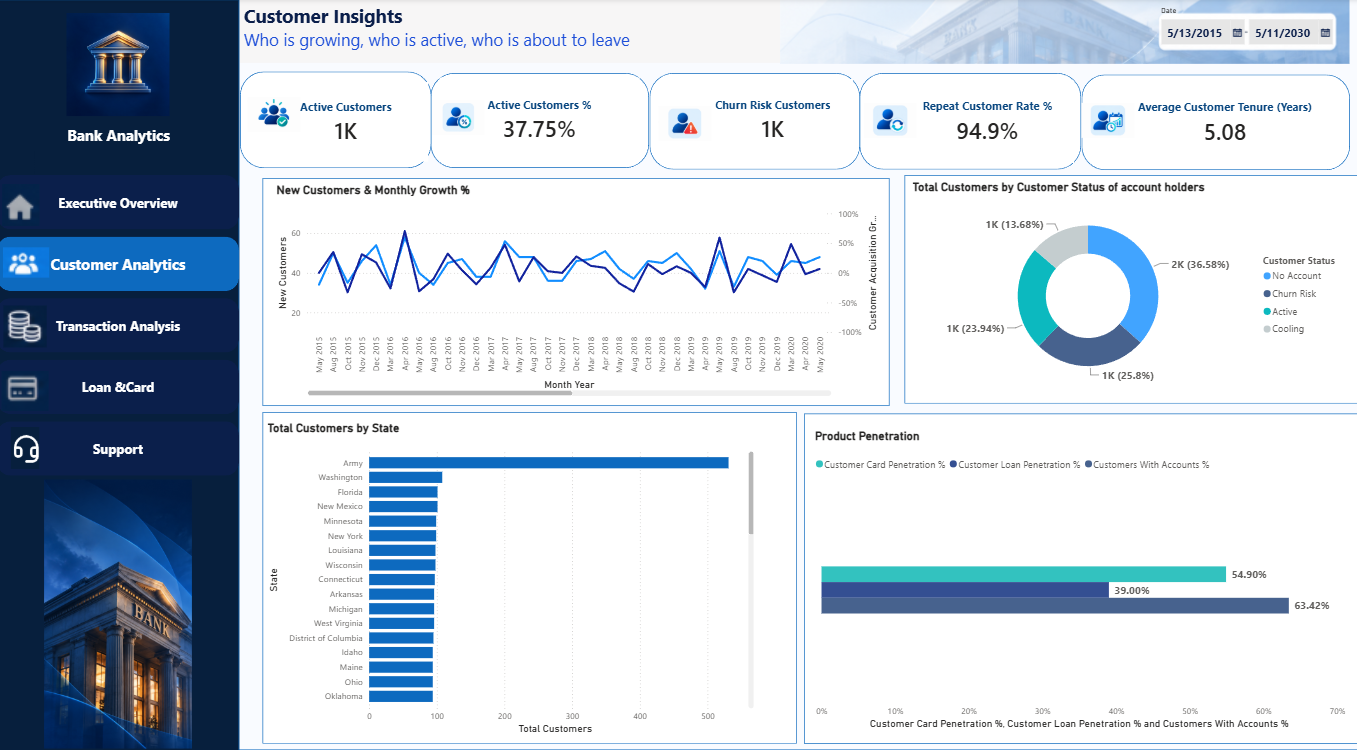

Layout of this report page (visuals, bound fields, positions):
{"tool":"powerbi","page":{"name":"Customer Analytics","canvas":[1950,1078],"ordinal":1},"visuals":[{"type":"shape","box":[244.5,0,1704.8,1075.4],"z":0},{"type":"textbox","box":[346.4,2.3,1197.6,90.6],"z":1000},{"type":"image","box":[0,688.2,346.4,384.9],"z":1000,"group":"g10"},{"type":"group","id":"g1","title":"Group 1","box":[1297.2,253.6,648.7,326.9],"z":4000},{"type":"group","id":"g2","title":"Group 2","box":[380.3,258.1,896.5,326],"z":5000},{"type":"group","id":"g3","title":"Group 5","box":[380.3,590.9,765.2,475.4],"z":6000},{"type":"group","id":"g4","title":"Group 6","box":[1154.6,593.2,792.4,470.9],"z":7000},{"type":"group","id":"g5","title":"Group 7","box":[1550.8,108.7,383.8,136.7],"z":8000},{"type":"group","id":"g6","title":"Group 8","box":[1233.9,106.4,317,138.1],"z":9000},{"type":"shape","box":[346.4,104.1,273.7,138.2],"z":10000,"group":"g9"},{"type":"group","id":"g7","title":"Group 9","box":[932.7,106.4,301.1,138.1],"z":10000},{"type":"group","id":"g8","title":"Group 10","box":[620.3,106.4,312.4,135.8],"z":11000},{"type":"shape","box":[620.3,106.4,312.4,135.8],"z":11000,"group":"g8"},{"type":"group","id":"g9","title":"Group 11","box":[346.4,104.1,273.7,138.2],"z":12000},{"type":"shape","box":[932.7,106.4,301.1,138.1],"z":12000,"group":"g7"},{"type":"shape","box":[1233.9,106.4,317,138.1],"z":13000,"group":"g6"},{"type":"actionButton","box":[0,199.4,239.1,49.3],"z":13000},{"type":"shape","box":[1550.8,108.7,383.8,136.7],"z":14000,"group":"g5"},{"type":"shape","box":[1154.6,593.2,792.3,472.3],"z":16000,"group":"g4"},{"type":"shape","box":[1297.2,253.6,648.7,326.9],"z":17000,"group":"g1"},{"type":"shape","box":[380.3,590.9,764.1,474.2],"z":18000,"group":"g3"},{"type":"shape","box":[380.3,258.1,896.5,326],"z":19000,"group":"g2"},{"type":"cardVisual","fields":{"Data":["calculated_table.Active Customers"]},"box":[379.9,118.8,234.9,114.2],"z":28000,"group":"g9"},{"type":"shape","box":[0,2.3,346.4,1075.4],"z":29000},{"type":"cardVisual","fields":{"Data":["calculated_table.active Customers %"]},"box":[633.5,112.4,286,120.9],"z":29000,"group":"g8"},{"type":"cardVisual","fields":{"Data":["calculated_table.Repeat Customer Rate %"]},"box":[1294.1,118.1,246.8,117.7],"z":30000,"group":"g6"},{"type":"textbox","box":[54.3,176.6,240.2,83.6],"z":30000},{"type":"cardVisual","fields":{"Data":["calculated_table.Churn Risk Customers"]},"box":[995.4,114.1,228.7,117.7],"z":31000,"group":"g7"},{"type":"cardVisual","fields":{"Data":["calculated_table.Average Customer Tenure (Years)"]},"box":[1598.8,116.2,317,120],"z":32000,"group":"g5"},{"type":"group","id":"g10","title":"Group 12","box":[0,688.2,346.4,384.9],"z":36000},{"type":"image","box":[0,20.4,346.4,147.2],"z":37000},{"type":"lineChart","title":"New Customers & Monthly Growth %","fields":{"Category":["DimDate.Month Year"],"Y":["calculated_table.New Customers"],"Y2":["calculated_table.Customer Acquisition Growth %"]},"box":[394.4,264.7,868.7,310.2],"z":37000,"group":"g2"},{"type":"pageNavigator","box":[0,253.6,346.4,434.7],"z":37001},{"type":"image","box":[6.4,613.4,67.5,60],"z":37002},{"type":"image","box":[6.8,532,67.5,60],"z":37003},{"type":"image","box":[6.8,439.2,67.5,60],"z":37004},{"type":"image","box":[8.2,343.5,66,70],"z":37005},{"type":"image","box":[0,264.9,67.5,60],"z":37006},{"type":"image","box":[1113.1,2.1,827.8,92.2],"z":37007},{"type":"slicer","fields":{"Values":["DimDate.Date"]},"box":[1651.3,6.4,276.7,83.6],"z":37008},{"type":"image","box":[358.1,109.4,75.1,113.7],"z":37009},{"type":"image","box":[620.9,114,75.1,113.7],"z":37010},{"type":"image","box":[945.8,122.2,75.1,113.7],"z":37011},{"type":"image","box":[1239.6,118,75.1,113.7],"z":37012},{"type":"image","box":[1550.6,118,75.1,113.7],"z":37013},{"type":"donutChart","title":"Total Customers by Customer Status of account holders","fields":{"Category":["customers.Customer Status"],"Y":["calculated_table.Total Customers"]},"box":[1304.7,260.5,630.2,302.3],"z":37014},{"type":"barChart","fields":{"Category":["customers.State"],"Y":["calculated_table.Total Customers"]},"box":[382.4,604,705.2,452.7],"z":38001,"group":"g3"},{"type":"clusteredBarChart","title":"Product Penetration","fields":{"Y":["calculated_table.Customer Card Penetration %","calculated_table.Customer Loan Penetration %","calculated_table.Customers With Accounts %"]},"box":[1166.3,615.6,768.5,434.7],"z":38002,"group":"g4"}]}

Visuals, with their boxes on the page's 1950x1078 design canvas (x1, y1, x2, y2). These are canvas units, not pixel positions in the 1357x750 screenshot, which may show the page scaled, cropped or inside an application window:
shape: l=244, t=0, r=1949, b=1075
textbox: l=346, t=2, r=1544, b=93
image: l=0, t=688, r=346, b=1073
"Group 1" group: l=1297, t=254, r=1946, b=580
"Group 2" group: l=380, t=258, r=1277, b=584
"Group 5" group: l=380, t=591, r=1146, b=1066
"Group 6" group: l=1155, t=593, r=1947, b=1064
"Group 7" group: l=1551, t=109, r=1935, b=245
"Group 8" group: l=1234, t=106, r=1551, b=244
shape: l=346, t=104, r=620, b=242
"Group 9" group: l=933, t=106, r=1234, b=244
"Group 10" group: l=620, t=106, r=933, b=242
shape: l=620, t=106, r=933, b=242
"Group 11" group: l=346, t=104, r=620, b=242
shape: l=933, t=106, r=1234, b=244
shape: l=1234, t=106, r=1551, b=244
actionButton: l=0, t=199, r=239, b=249
shape: l=1551, t=109, r=1935, b=245
shape: l=1155, t=593, r=1947, b=1066
shape: l=1297, t=254, r=1946, b=580
shape: l=380, t=591, r=1144, b=1065
shape: l=380, t=258, r=1277, b=584
cardVisual - calculated_table.Active Customers: l=380, t=119, r=615, b=233
shape: l=0, t=2, r=346, b=1078
cardVisual - calculated_table.active Customers %: l=634, t=112, r=920, b=233
cardVisual - calculated_table.Repeat Customer Rate %: l=1294, t=118, r=1541, b=236
textbox: l=54, t=177, r=294, b=260
cardVisual - calculated_table.Churn Risk Customers: l=995, t=114, r=1224, b=232
cardVisual - calculated_table.Average Customer Tenure (Years): l=1599, t=116, r=1916, b=236
"Group 12" group: l=0, t=688, r=346, b=1073
image: l=0, t=20, r=346, b=168
"New Customers & Monthly Growth %" lineChart: l=394, t=265, r=1263, b=575
pageNavigator: l=0, t=254, r=346, b=688
image: l=6, t=613, r=74, b=673
image: l=7, t=532, r=74, b=592
image: l=7, t=439, r=74, b=499
image: l=8, t=344, r=74, b=414
image: l=0, t=265, r=68, b=325
image: l=1113, t=2, r=1941, b=94
slicer - DimDate.Date: l=1651, t=6, r=1928, b=90
image: l=358, t=109, r=433, b=223
image: l=621, t=114, r=696, b=228
image: l=946, t=122, r=1021, b=236
image: l=1240, t=118, r=1315, b=232
image: l=1551, t=118, r=1626, b=232
"Total Customers by Customer Status of account holders" donutChart: l=1305, t=260, r=1935, b=563
barChart - customers.State x calculated_table.Total Customers: l=382, t=604, r=1088, b=1057
"Product Penetration" clusteredBarChart: l=1166, t=616, r=1935, b=1050
